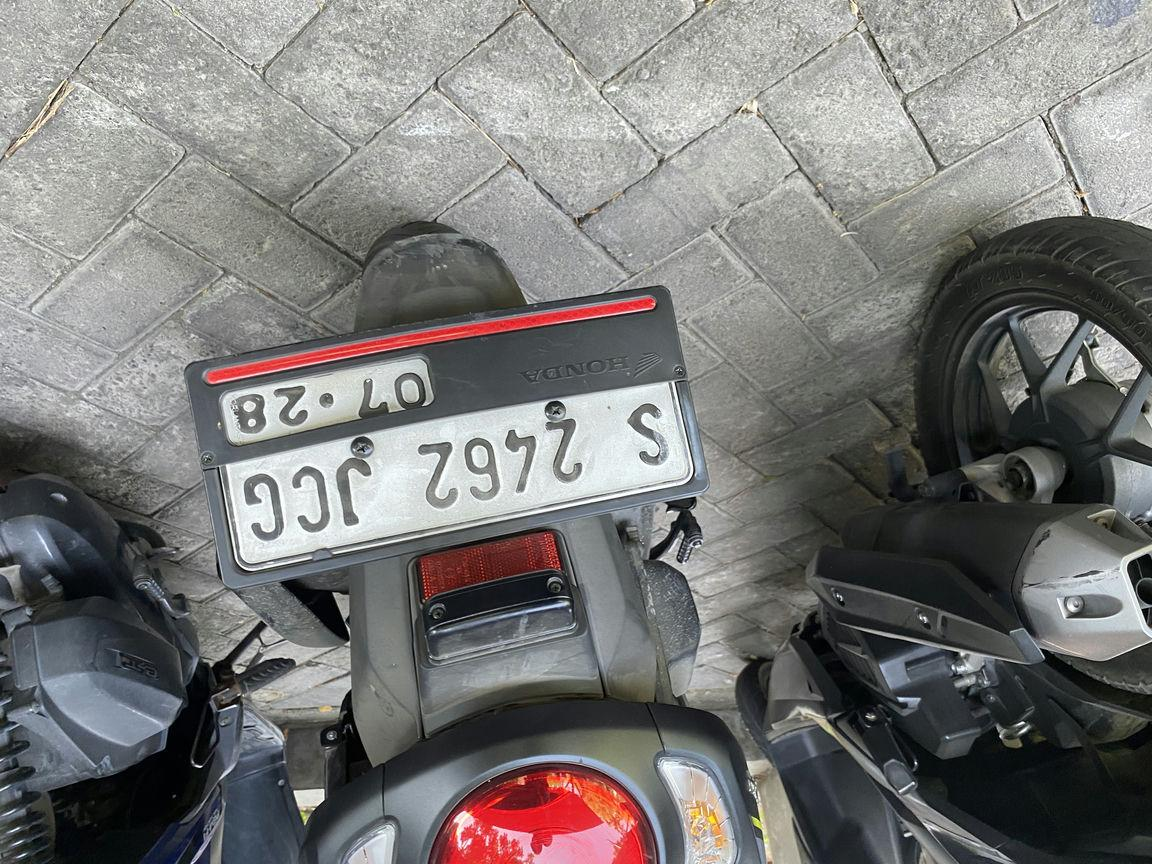plat: (446, 277, 965, 576)
